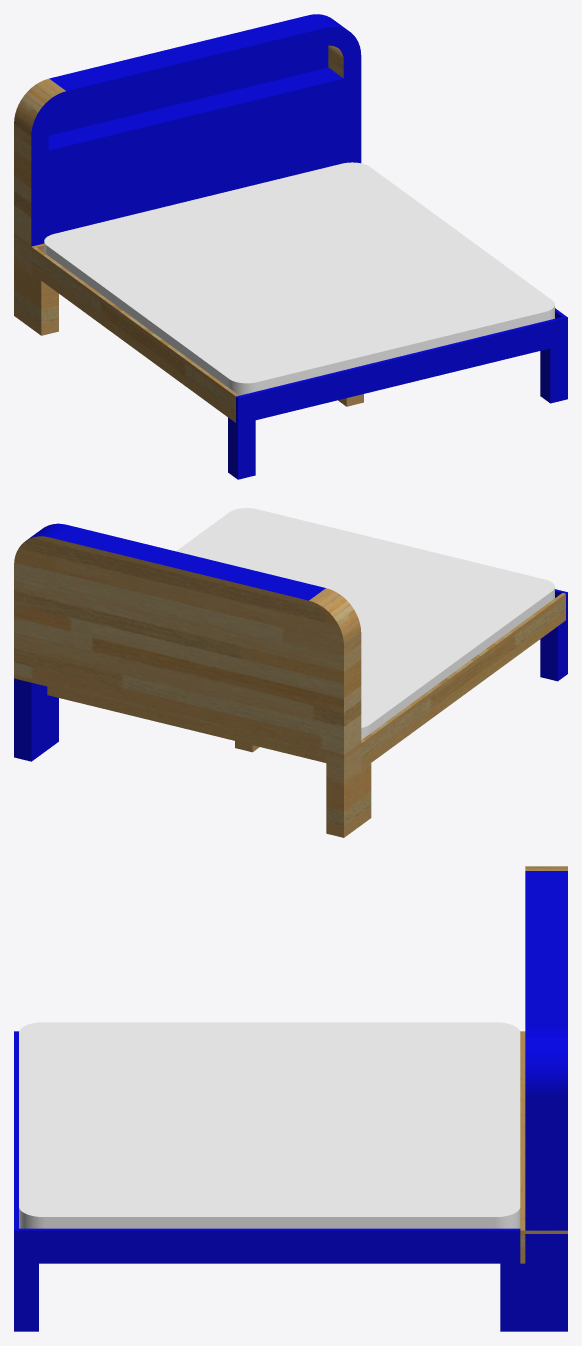
3 views of the same model, one above another, from view 1: azimuth 30°, elevation 25°; view 2: azimuth 150°, elevation 25°; view 3: azimuth 270°, elevation 25° (orthographic). The views are drawn at different scales.
Visible parts, largest first — view 1: Root Node, 646601, 646600, 646606, 646598, 646627, 646607; view 2: Root Node, 646600, 646627, 646610, 646988, 646606, 646628, 646607, 646608; view 3: Root Node, 646602, 646610, 646608, 646598, 646599, 646601.
Part boxes in pixels (x1,y1,x2,y2): Root Node: (14,14,554,395); 646601: (236,316,567,424); 646600: (33,247,238,422); 646606: (228,417,255,479); 646598: (540,344,567,403); 646627: (14,237,31,327); 646607: (31,273,58,335); Root Node: (14,508,554,755); 646600: (361,593,565,768); 646627: (326,746,361,837); 646610: (14,678,48,761); 646988: (47,686,326,762); 646606: (540,619,567,681); 646628: (14,675,361,758); 646607: (361,763,371,824); 646608: (48,695,58,748); Root Node: (19,866,567,1230); 646602: (19,1228,520,1263); 646610: (525,1234,567,1331); 646608: (500,1263,525,1331); 646598: (14,1263,38,1331); 646599: (520,1031,525,1263); 646601: (14,1031,18,1263).
Size of the model in its own units: 1.88 by 1.24 by 2.21.
Materials: 424 (281 with a texture image).
